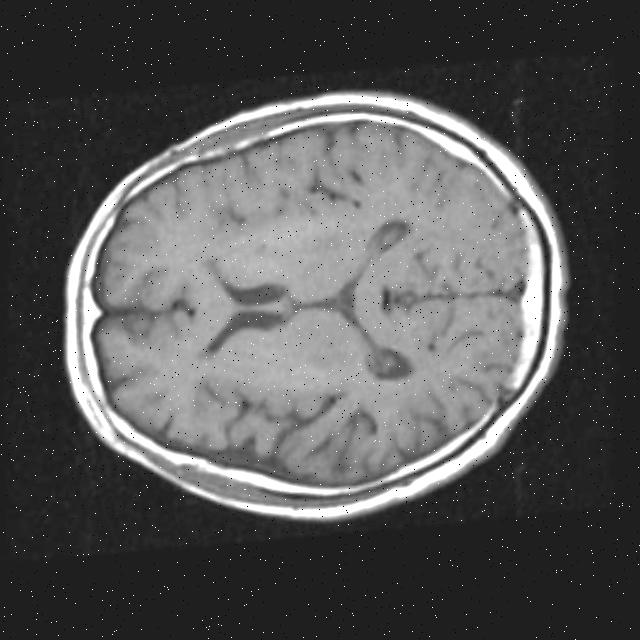NoTumor: (73, 97, 548, 514)
